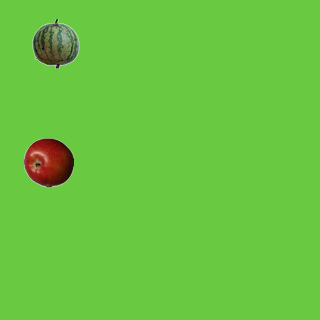Apple Braeburn: (23, 137, 73, 187)
Watermelon: (30, 18, 80, 68)
